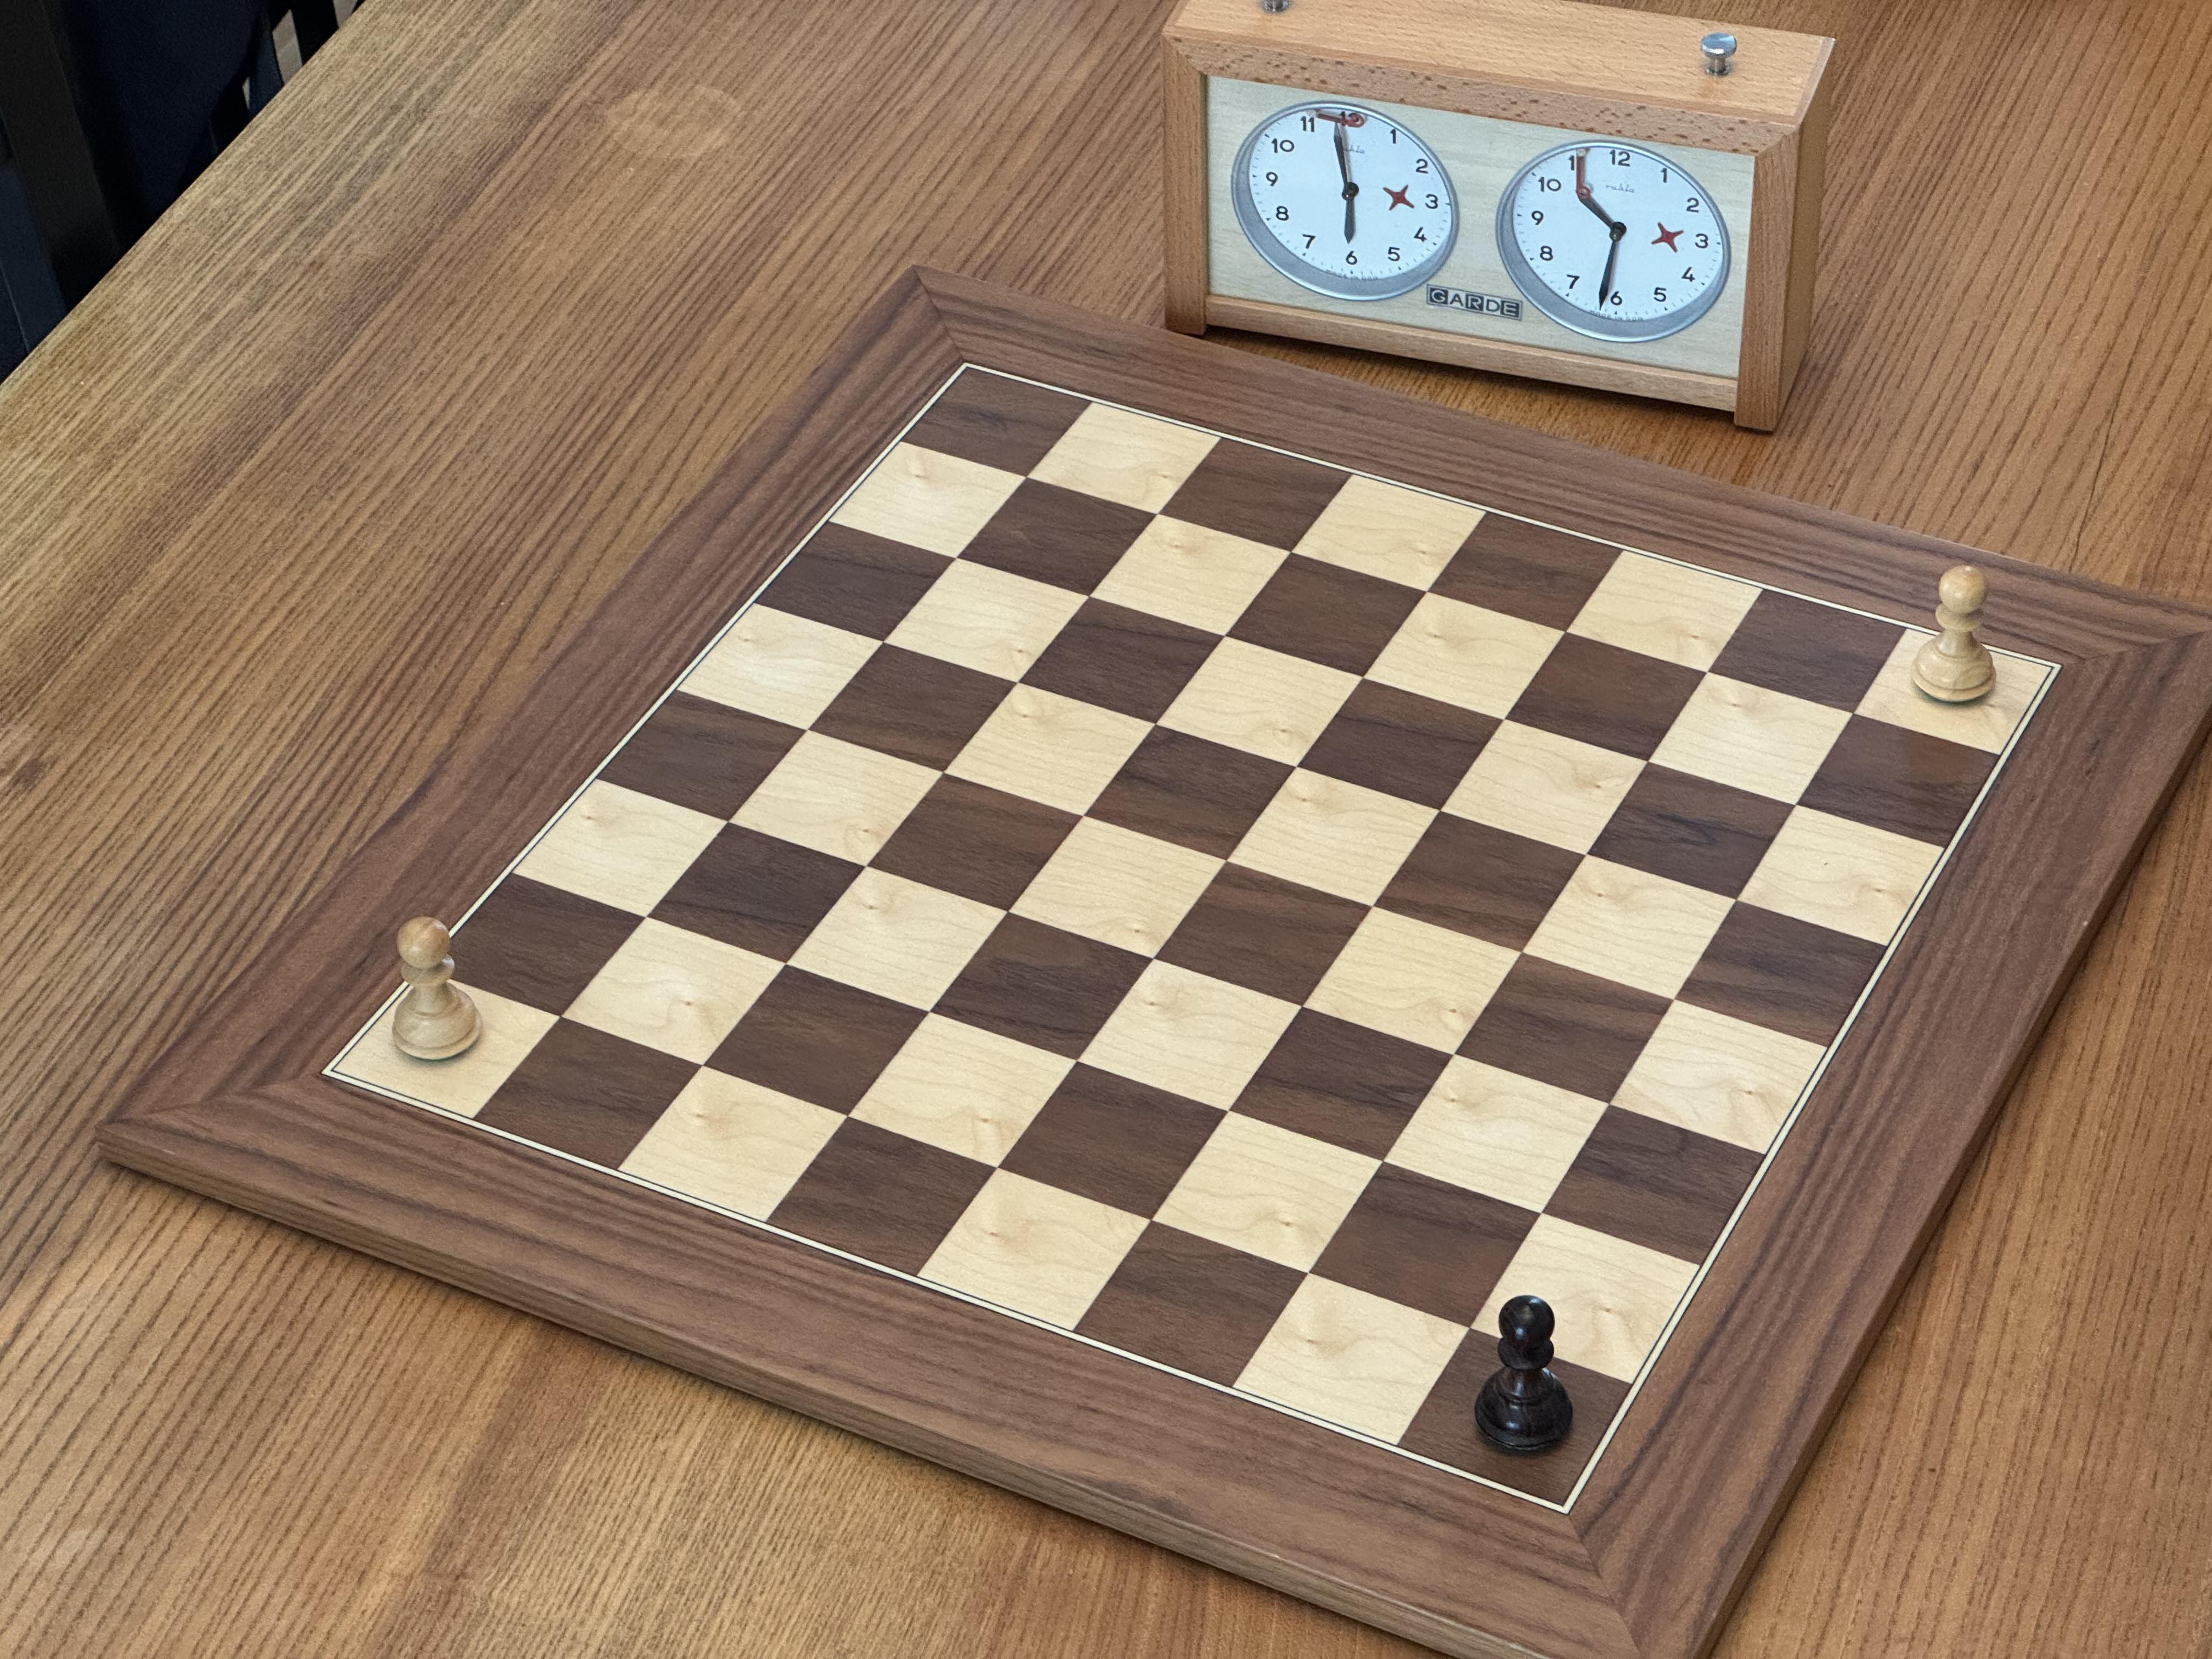corner A: (246, 986, 415, 1154)
corner B: (1470, 1417, 1656, 1603)
corner C: (1977, 579, 2141, 749)
